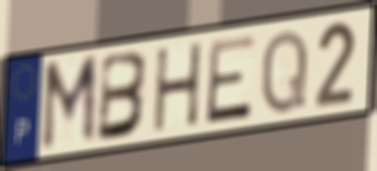2: (313, 18, 361, 113)
B: (94, 49, 152, 146)
E: (203, 32, 258, 128)
H: (152, 39, 205, 136)
M: (38, 51, 100, 156)
Q: (258, 25, 311, 118)
